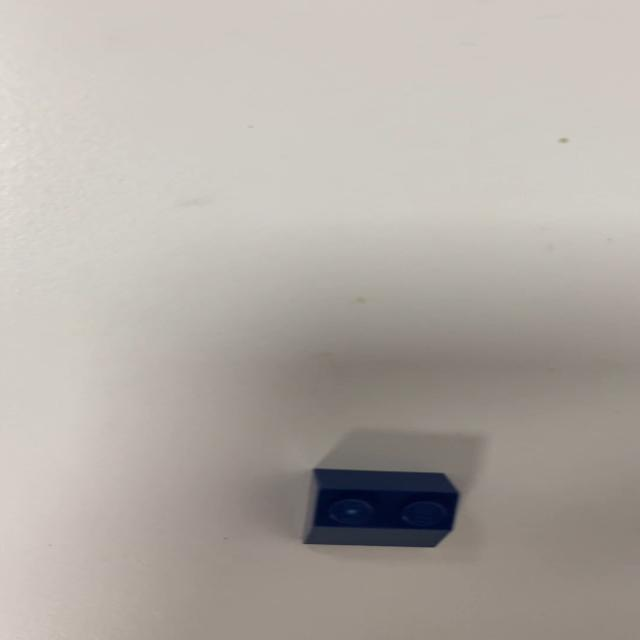P2x2x1: (301, 467, 460, 548)
